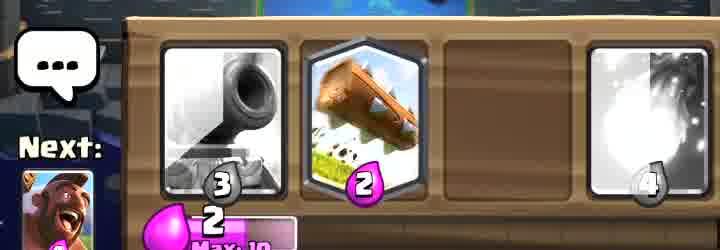hog-rider: (23, 171, 93, 250)
log: (310, 43, 423, 191)
